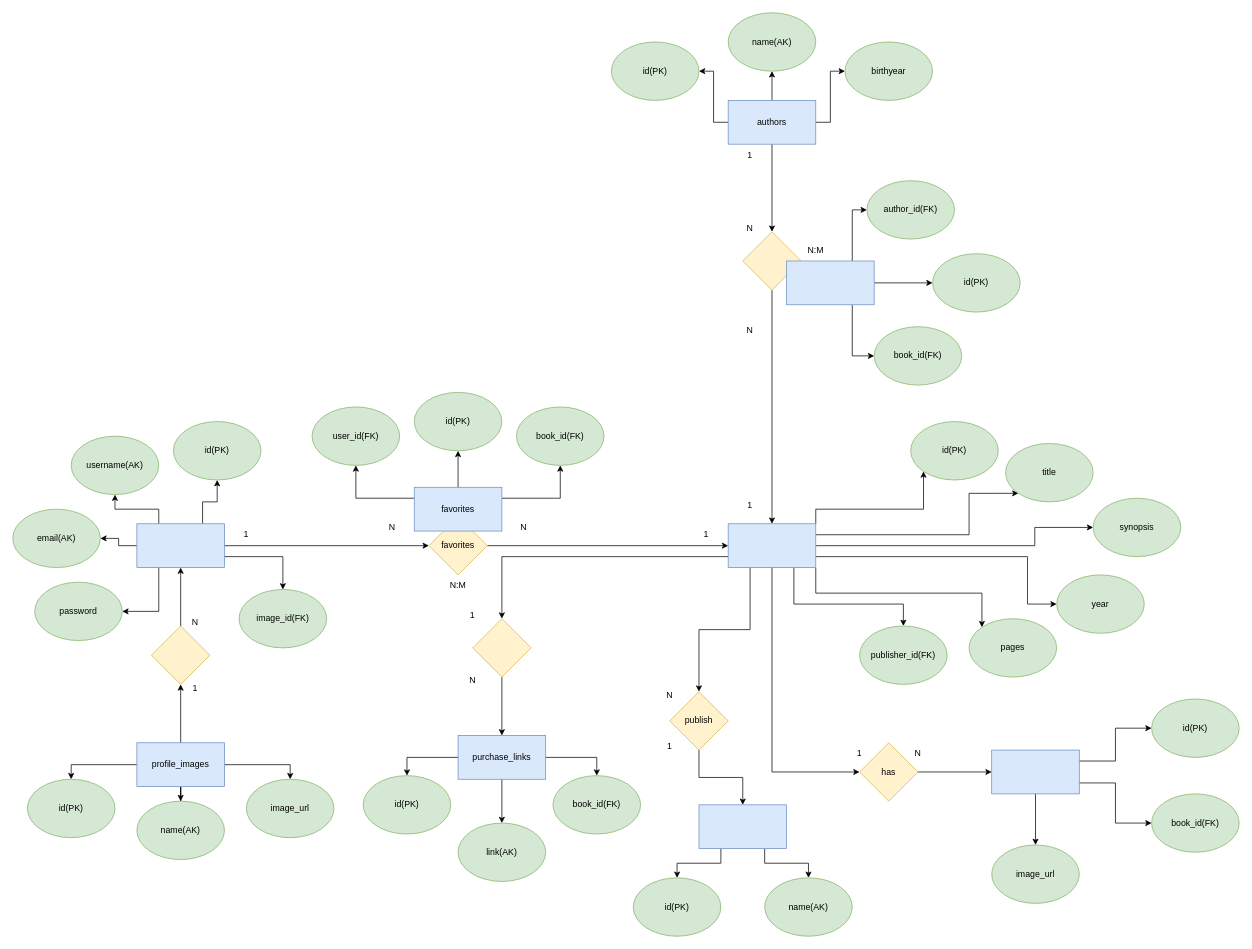
The diagram is 1252 pixels wide and 949 high, and some of its shapes have lost their labels. Each missing label, with the centre of its shape:
"book_images" belongs at (1035,771).
"books" belongs at (771,545).
"books_authors" belongs at (830,282).
"includes" belongs at (501,647).
"publishers" belongs at (742,826).
"users" belongs at (180,545).
"uses" belongs at (180,654).
"wrote" belongs at (771,260).
